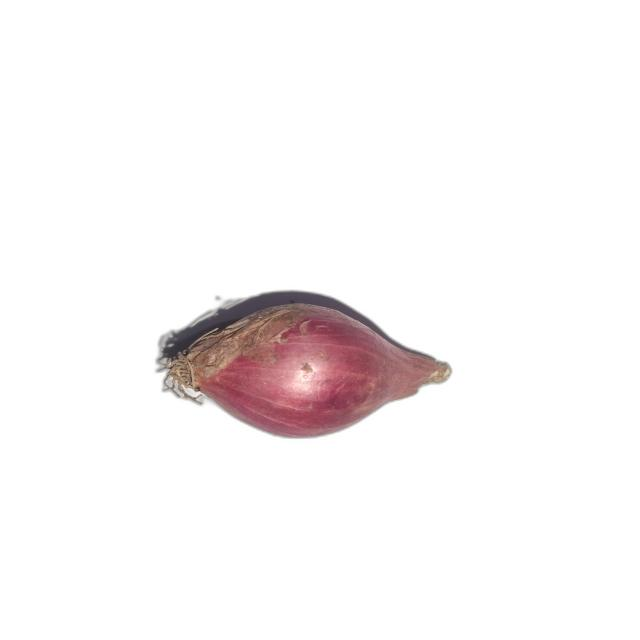onion: (163, 303, 453, 439)
